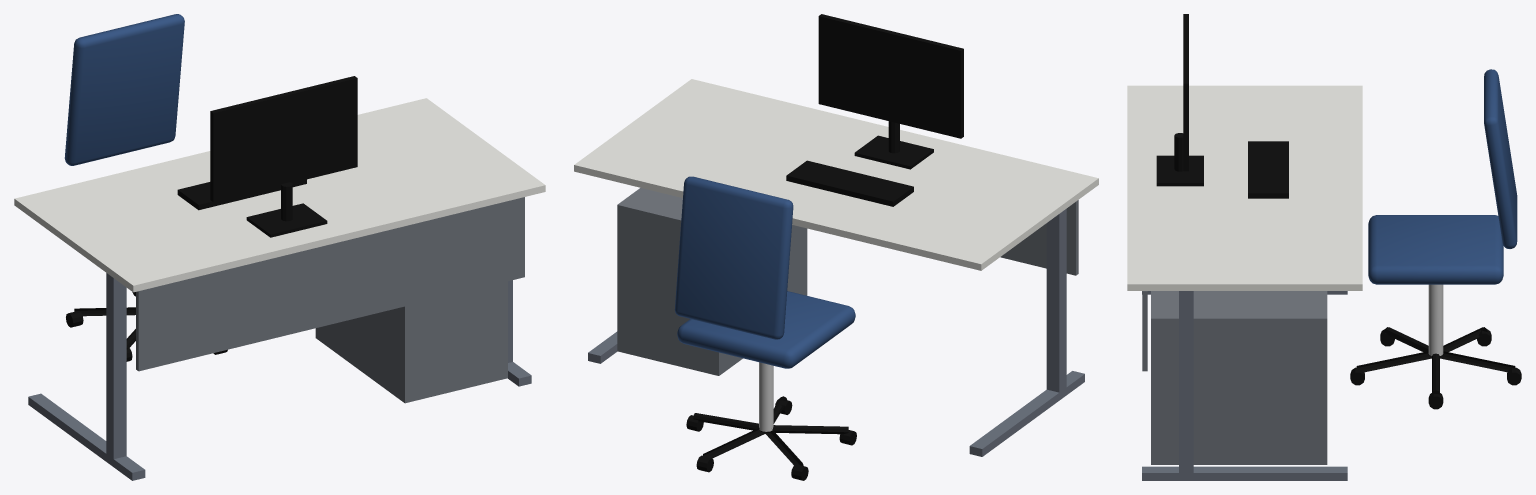
The model's file is fixture.desk_office.glb.
3 views of the same model, side by side, from view 1: azimuth 30°, elevation 25°; view 2: azimuth 150°, elevation 25°; view 3: azimuth 270°, elevation 25° (orthographic).
Parts seen in each view (by area): view 1: desk__laminate_grey, desk__laminate_white, equipment__plastic_black, chairs__fabric_blue, desk__steel_painted, chairs__plastic_black; view 2: desk__laminate_white, chairs__fabric_blue, equipment__plastic_black, desk__laminate_grey, desk__steel_painted, chairs__plastic_black, chairs__steel_stainless; view 3: desk__laminate_white, desk__laminate_grey, chairs__fabric_blue, desk__steel_painted, equipment__plastic_black, chairs__plastic_black, chairs__steel_stainless.
Part boxes in pixels (bbox=[...]): desk__laminate_grey: bbox=[136, 197, 524, 403]; desk__laminate_white: bbox=[14, 98, 545, 292]; equipment__plastic_black: bbox=[177, 76, 357, 237]; chairs__fabric_blue: bbox=[64, 14, 184, 165]; desk__steel_painted: bbox=[28, 273, 531, 480]; chairs__plastic_black: bbox=[66, 292, 227, 361]; desk__laminate_white: bbox=[574, 79, 1098, 270]; chairs__fabric_blue: bbox=[674, 176, 855, 368]; equipment__plastic_black: bbox=[786, 14, 963, 206]; desk__laminate_grey: bbox=[617, 188, 1078, 375]; desk__steel_painted: bbox=[588, 209, 1084, 456]; chairs__plastic_black: bbox=[686, 396, 856, 480]; chairs__steel_stainless: bbox=[759, 362, 773, 431]; desk__laminate_white: bbox=[1127, 85, 1362, 290]; desk__laminate_grey: bbox=[1142, 291, 1327, 464]; chairs__fabric_blue: bbox=[1368, 69, 1517, 284]; desk__steel_painted: bbox=[1142, 291, 1347, 480]; equipment__plastic_black: bbox=[1156, 14, 1288, 198]; chairs__plastic_black: bbox=[1350, 327, 1521, 409]; chairs__steel_stainless: bbox=[1428, 284, 1443, 355].
Bounding box in the file's own units: 1.6 × 1.21 × 1.34.
